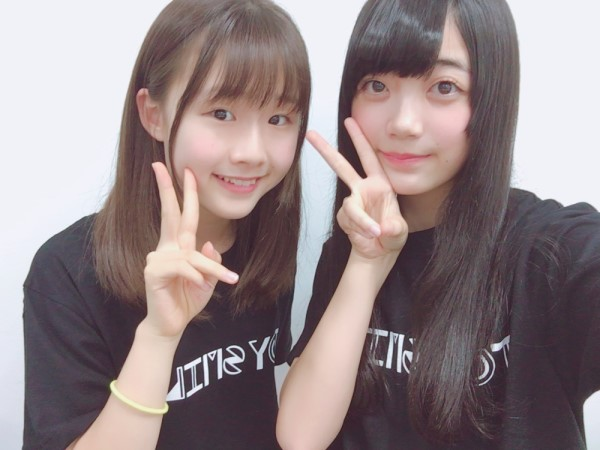face: (137, 32, 302, 221), (350, 4, 471, 197)
hand: (304, 116, 410, 260), (144, 162, 240, 318)
